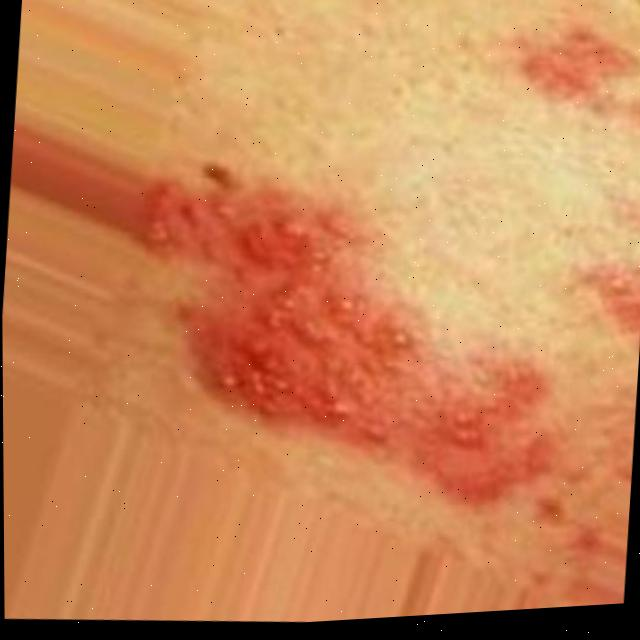Shingles: (135, 137, 571, 529), (509, 15, 640, 127), (570, 245, 640, 354)
